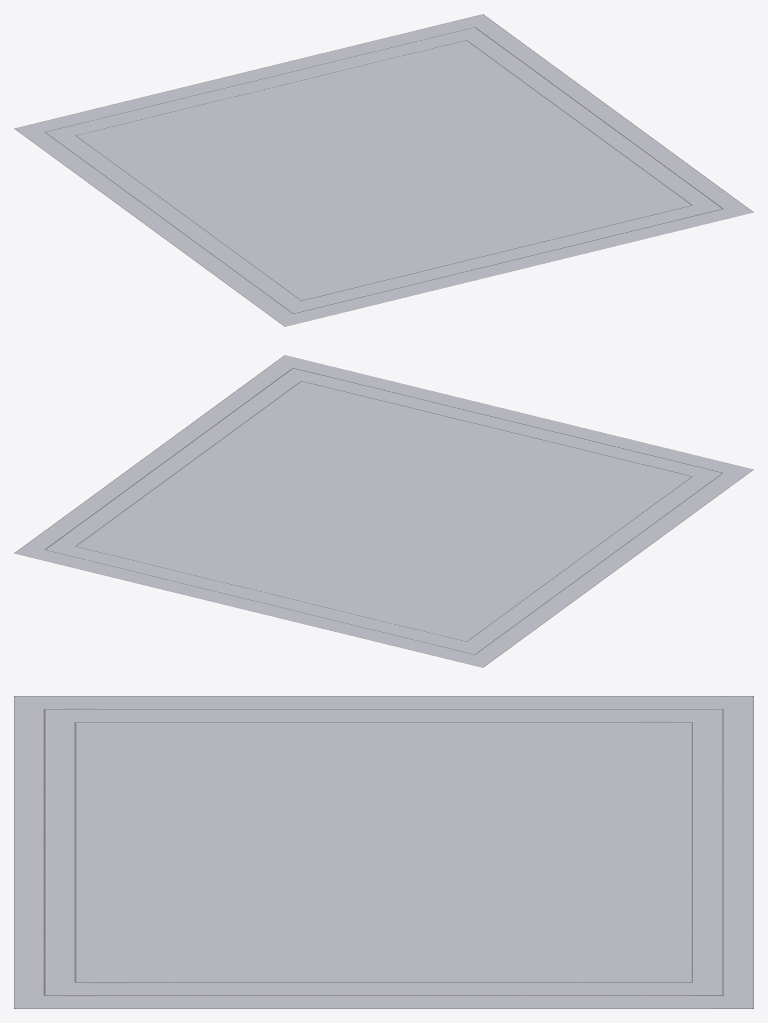
Rendered from Floor_Normal_02.FBX.
3 views of the same model, one above another, from view 1: azimuth 30°, elevation 25°; view 2: azimuth 150°, elevation 25°; view 3: azimuth 270°, elevation 25° (orthographic). The views are drawn at different scales.
Visible parts, largest first — view 1: Floor_Normal_02; view 2: Floor_Normal_02; view 3: Floor_Normal_02.
Boxes of the visible parts, box(x1,y1,x2,y2) form: Floor_Normal_02: box(14, 14, 753, 326); Floor_Normal_02: box(14, 355, 753, 667); Floor_Normal_02: box(14, 696, 753, 1008).
Size of the model in its own units: 12 by 2.62e-07 by 12.
